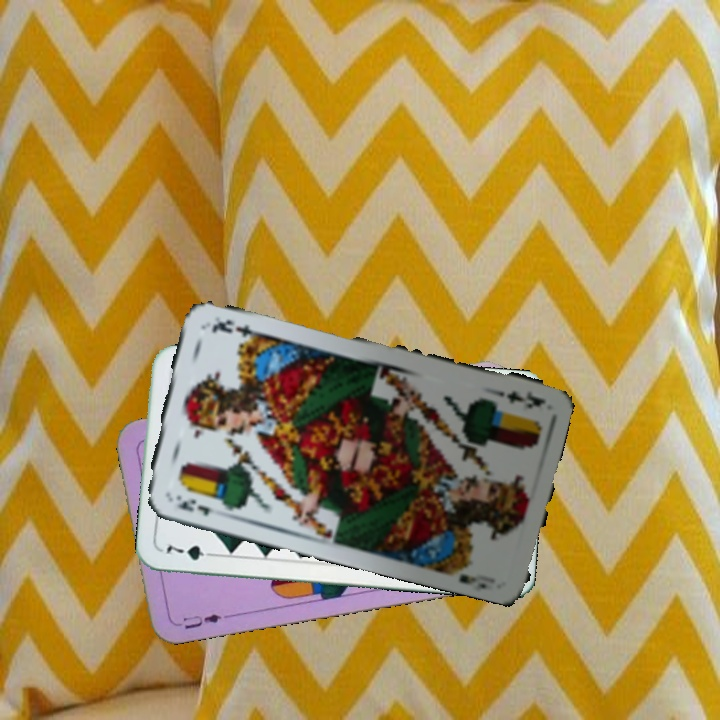EK: (488, 386, 548, 411), (172, 491, 213, 518)
EU: (172, 610, 231, 632)
G7: (162, 540, 219, 563)
